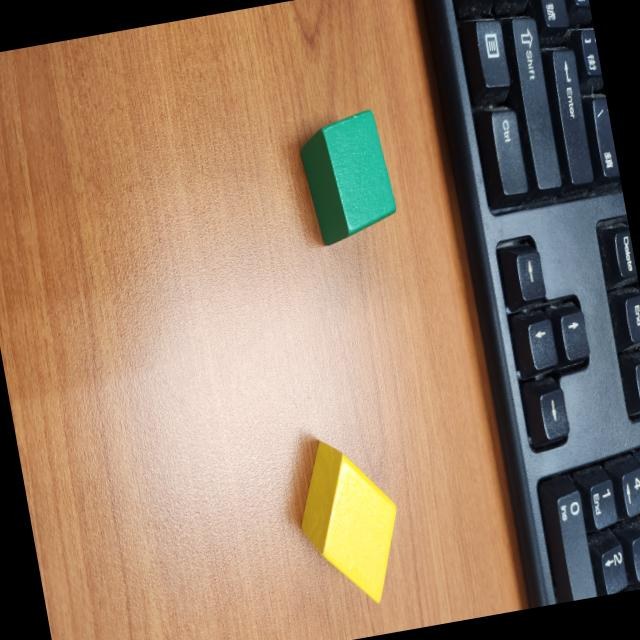green: (292, 104, 402, 250)
yellow: (284, 432, 412, 617)
